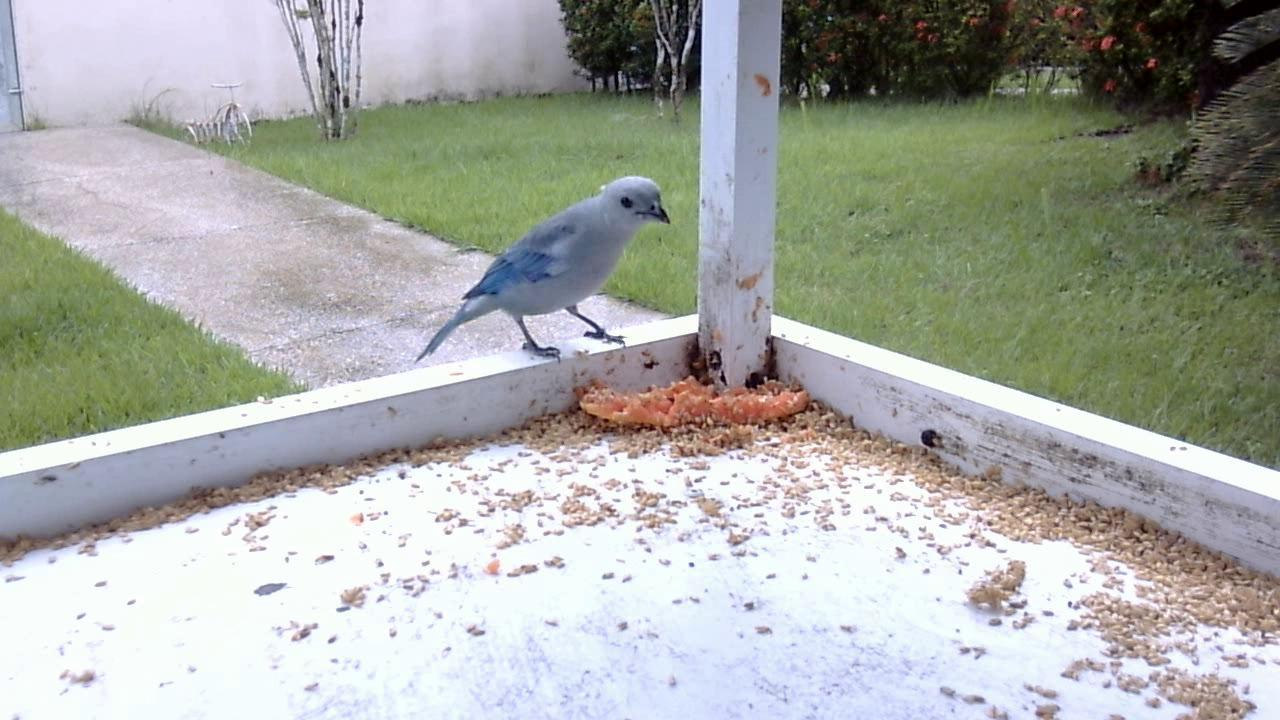sanhaco_da_amazonia: (406, 179, 671, 373)
